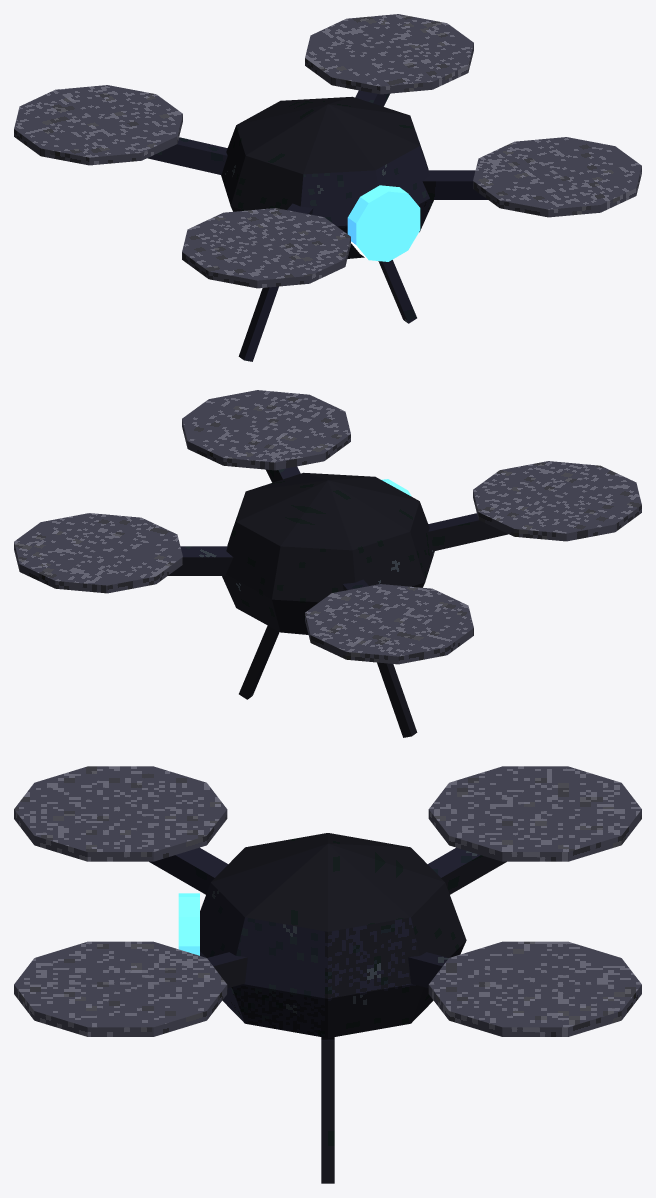
The model's file is gigacorp_sentinel_drone.glb.
3 renders of one model, top to bottom at view 1: azimuth 30°, elevation 25°; view 2: azimuth 150°, elevation 25°; view 3: azimuth 270°, elevation 25°, orthographic. The views are drawn at different scales.
Visible parts, largest first — view 1: prop; view 2: prop; view 3: prop.
Boxes of the visible parts, bbox=[...] form: prop: bbox=[14, 14, 641, 361]; prop: bbox=[14, 390, 641, 737]; prop: bbox=[14, 766, 641, 1183].
Size of the model in its own units: 1.16 by 0.6046 by 1.18.
1 material, 1 textured.
